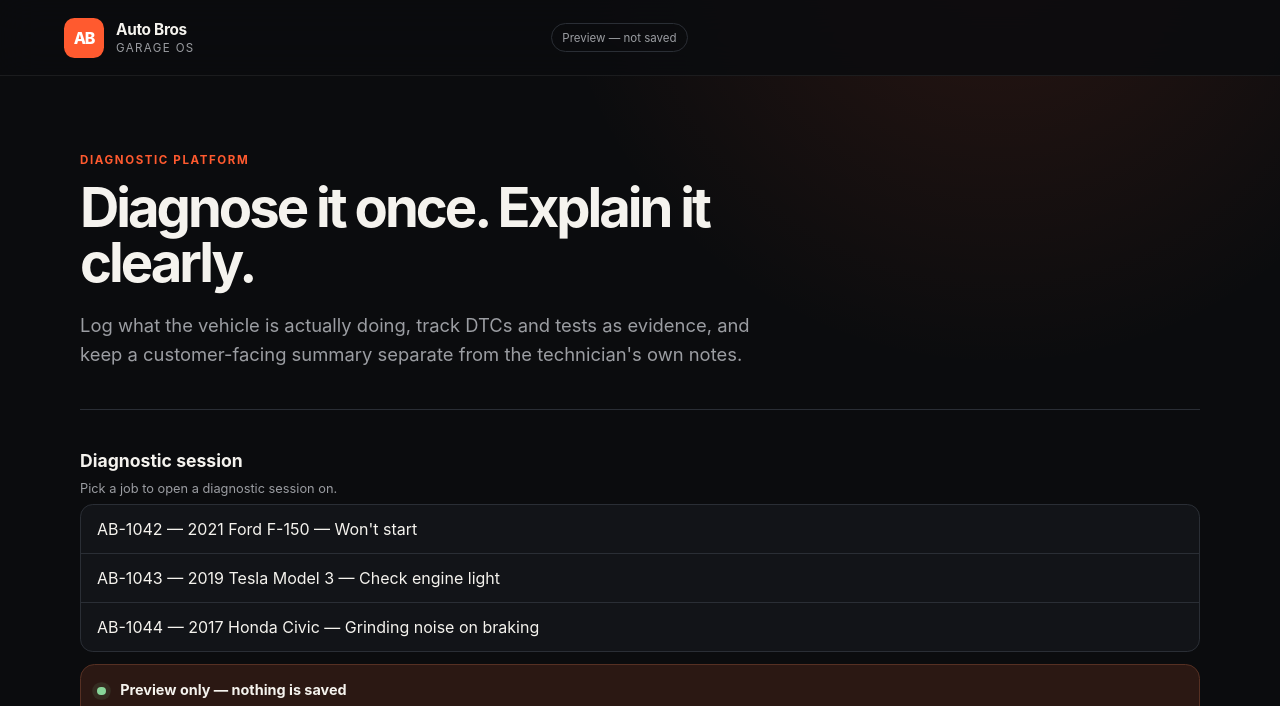
Scenario: DiagnosticsPage › logs a new finding as suspected and records it on the timeline
This screenshot has width=1280, height=706.
Click the button "AB-1042 — 2021 Ford F-150 — Won't start": (257, 529) [81,505,1199,553]
(page scrolled)
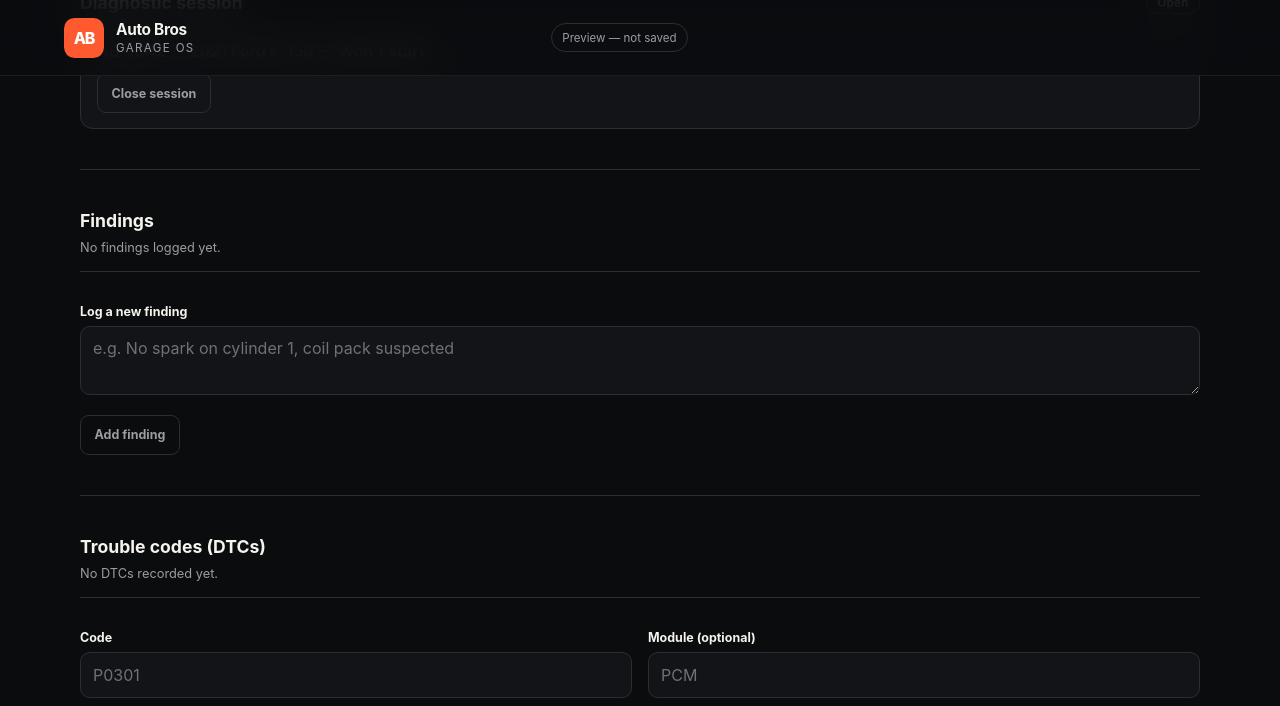
In the text box labelled "Log a new finding": (640, 360) [80,326,1200,395], type "No spark on cylinder 1, coil pack suspected"
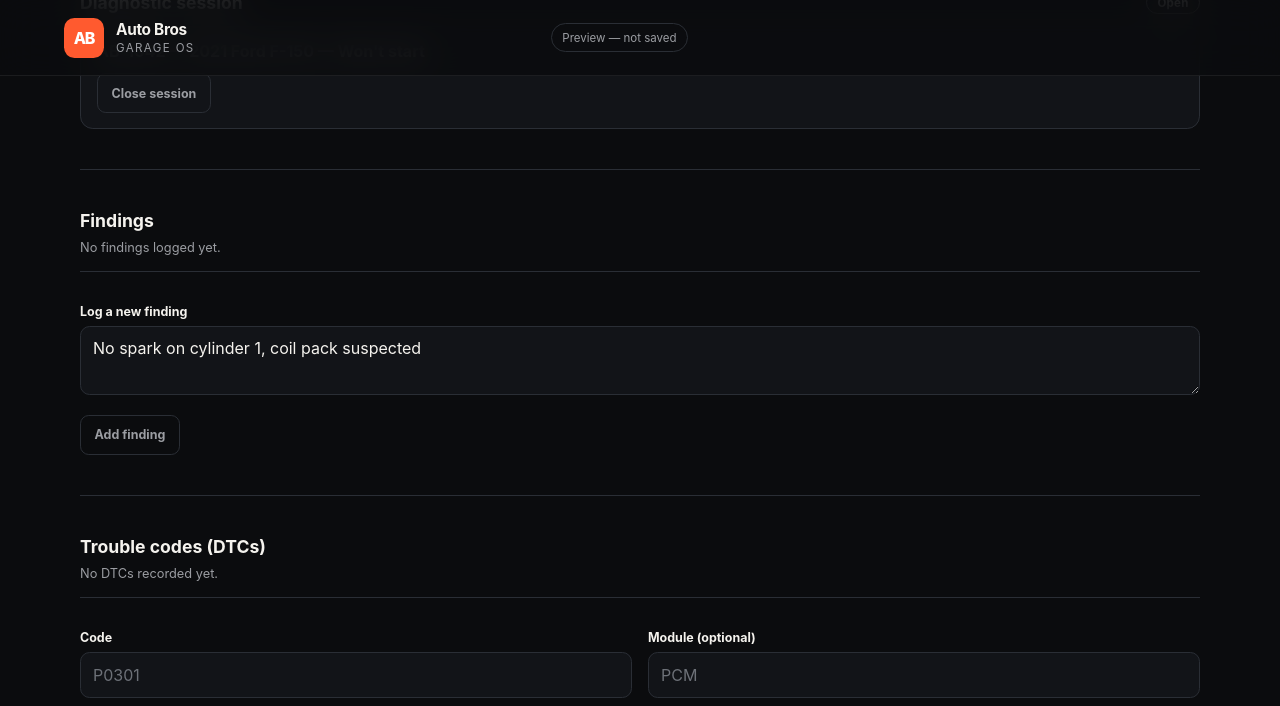
Click the button "Add finding": (130, 435) [80,415,180,455]
(page scrolled)
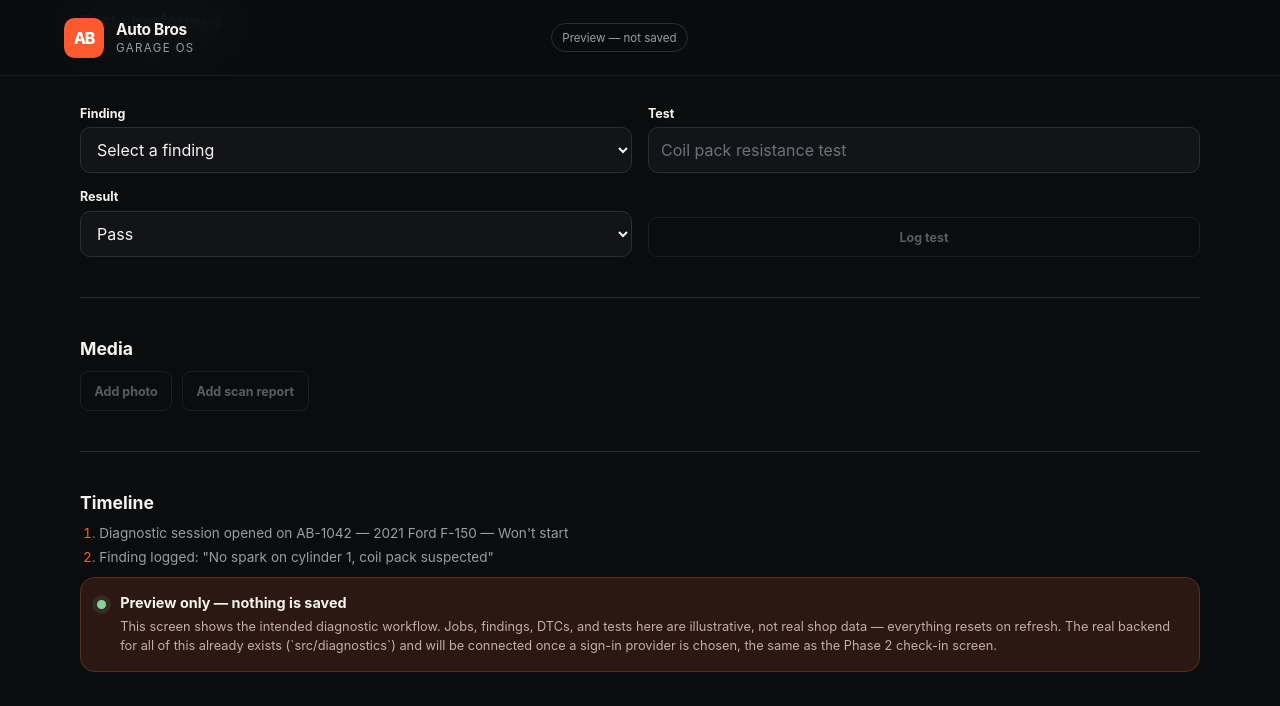
Check: the list item "Finding logged: \"No spark on cylinder 1, coil pack suspected\"" is shown, box [99,549,494,565]
